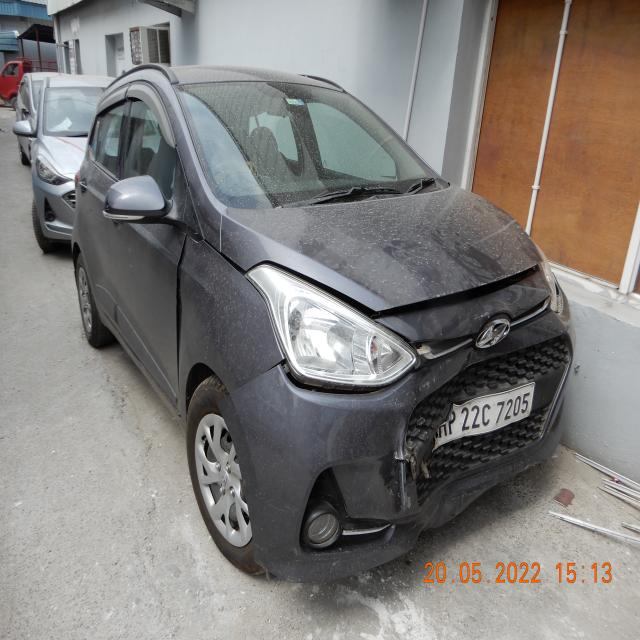damage: (374, 251, 548, 327), (389, 388, 486, 510), (264, 352, 390, 399), (174, 236, 189, 383), (476, 452, 550, 476), (414, 331, 477, 359), (411, 514, 442, 549), (219, 211, 223, 253)
